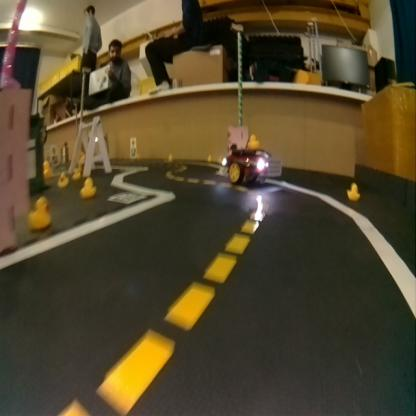Duckie: (29, 197, 51, 229), (79, 178, 95, 196), (346, 182, 360, 200), (42, 160, 53, 178), (247, 134, 259, 148), (57, 172, 67, 186), (73, 167, 80, 179)
Duckiebot: (224, 143, 281, 183)
QR code: (107, 191, 145, 203)
